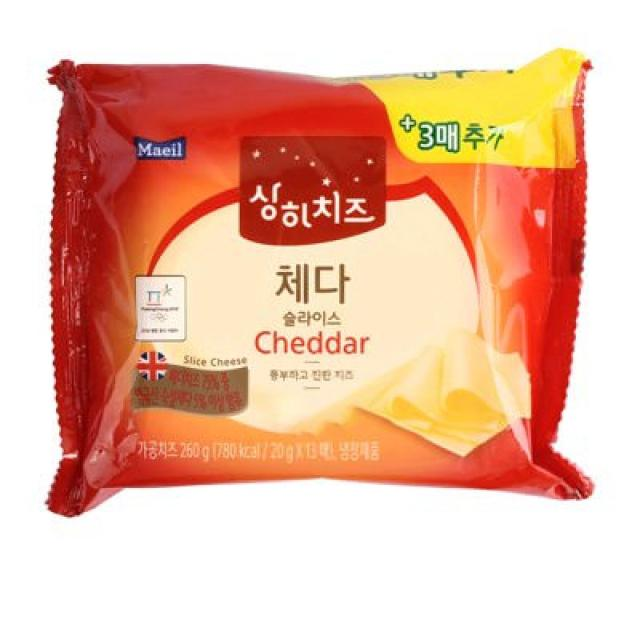cheese: (48, 48, 594, 516)
